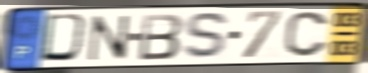7: (243, 9, 284, 61)
B: (137, 12, 186, 62)
C: (282, 10, 330, 59)
D: (38, 12, 93, 65)
N: (87, 14, 131, 63)
S: (180, 10, 233, 62)
